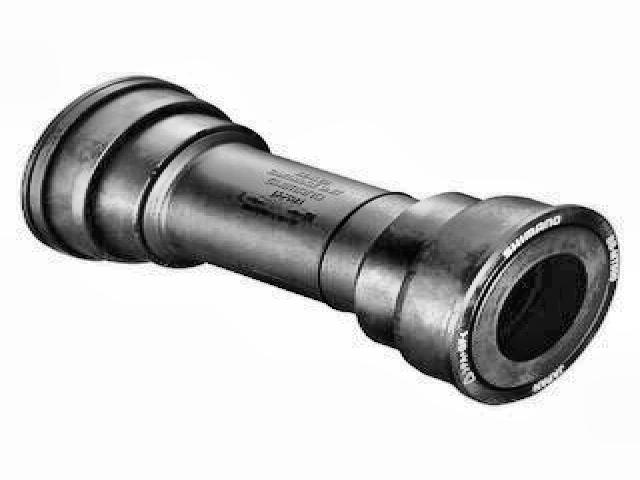bottom_bracket: (14, 71, 624, 408)
